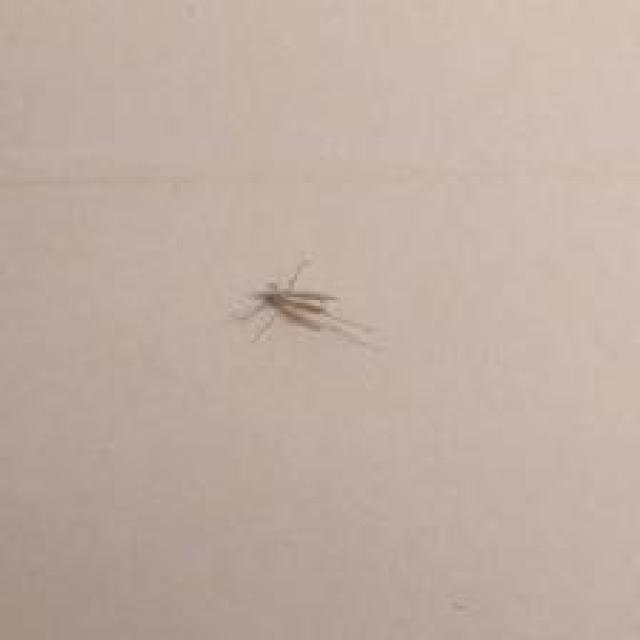Culex: (228, 257, 383, 352)
